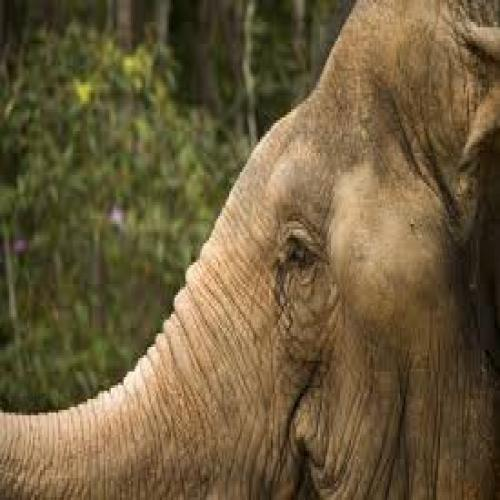asian_elephant-endangered: (0, 12, 488, 493)
